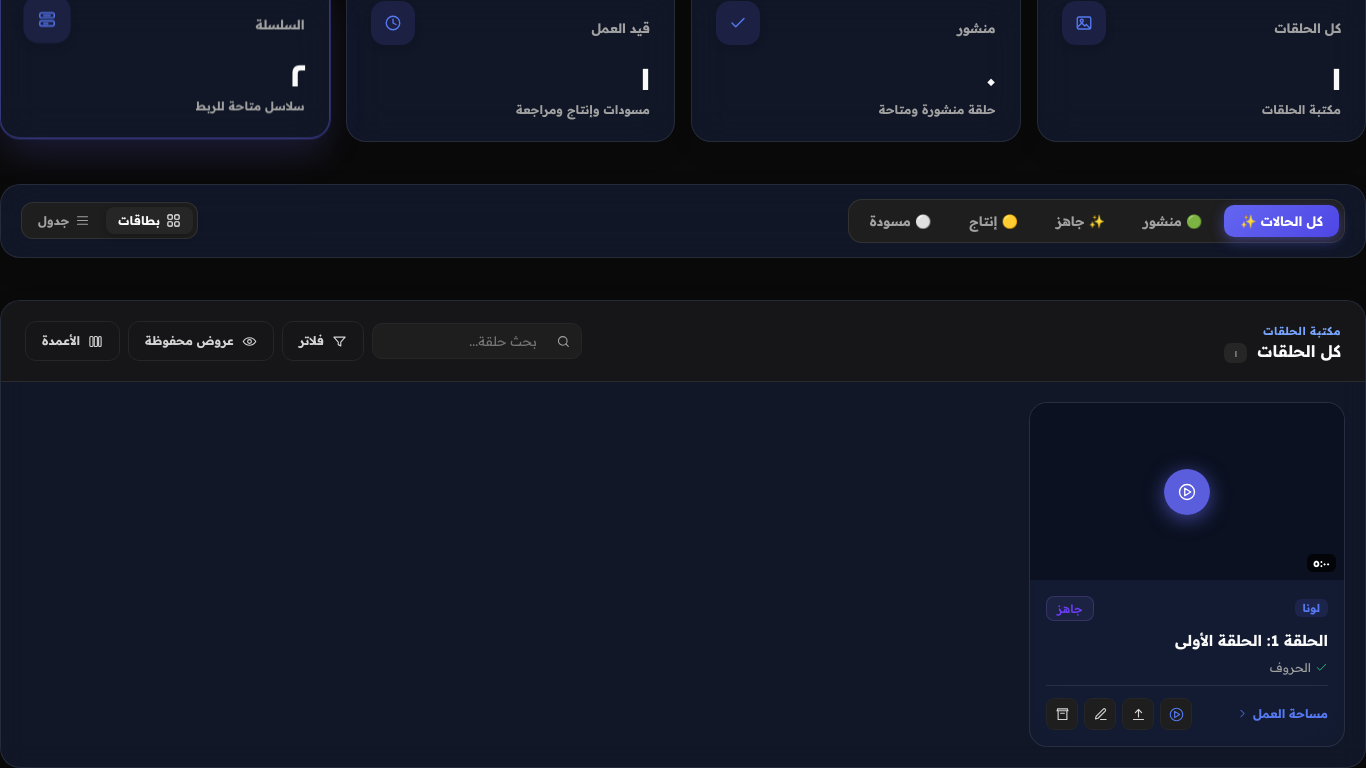
Scenario: EpisodesPage › clicking play opens the episode player modal
The width and height of the screenshot is (1366, 768).
(page scrolled)
What coordinates should you click on to do the following:
click the button named "تشغيل الحلقة"
I would click on:
 (1176, 714)
Its box is left=1160, top=698, right=1192, bottom=730.
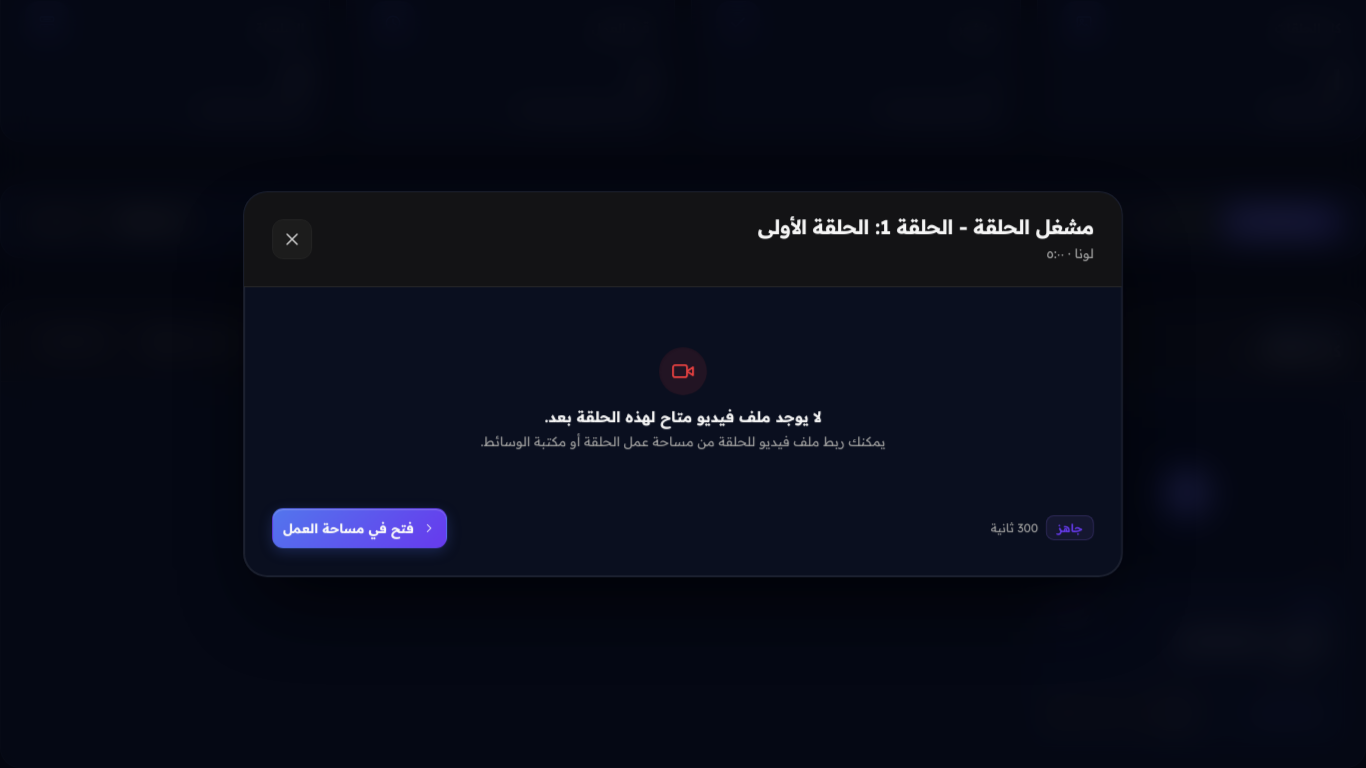
Result: the dialog "مشغل الحلقة" is shown at left=243, top=191, right=1123, bottom=577
Result: the heading "مشغل الحلقة - الحلقة 1: الحلقة الأولى" is shown at left=758, top=214, right=1094, bottom=239
